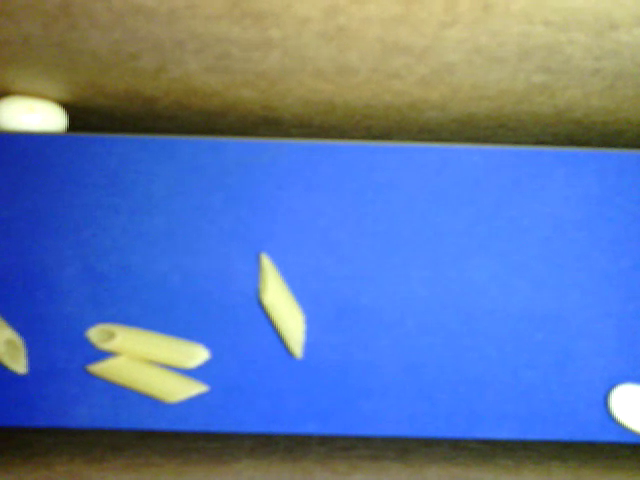penne: (84, 322, 210, 372), (85, 353, 210, 401), (258, 253, 307, 360), (1, 317, 29, 376)
